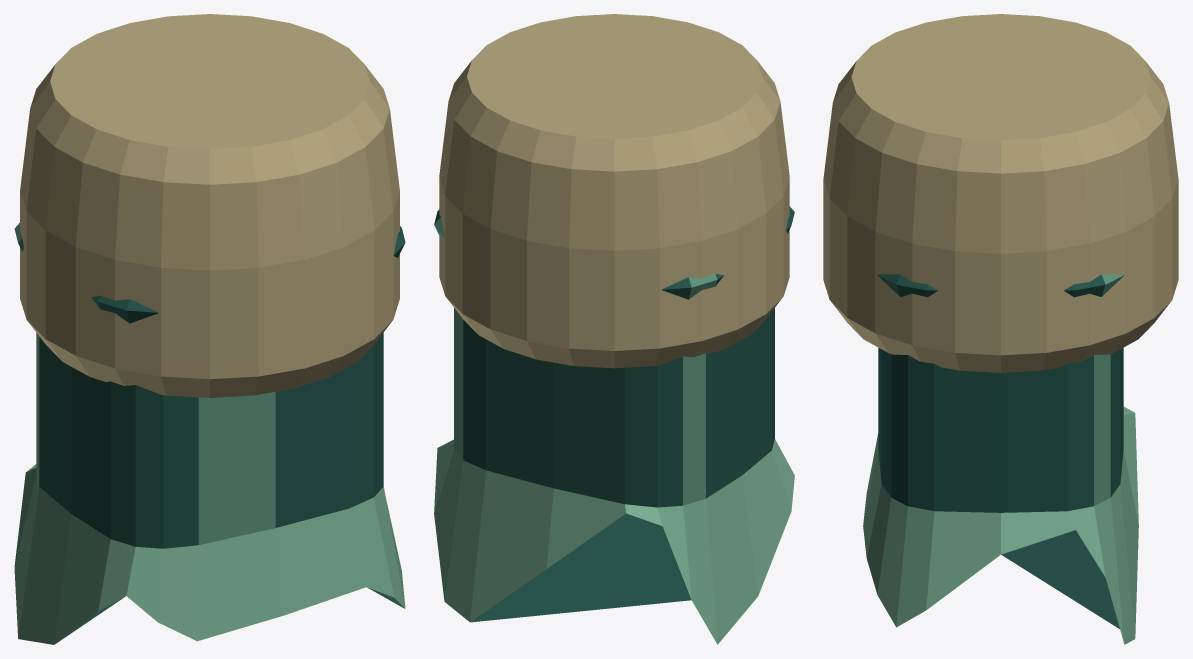
The model's file is gin_bottle_piece_neck.glb.
3 renders of one model, left to right at view 1: azimuth 30°, elevation 25°; view 2: azimuth 150°, elevation 25°; view 3: azimuth 270°, elevation 25°, orthographic. The views are drawn at different scales.
Parts seen in each view (by area): view 1: Retained original bottle closure.003, Jagged shoulder and sealed neck.003; view 2: Retained original bottle closure.003, Jagged shoulder and sealed neck.003; view 3: Retained original bottle closure.003, Jagged shoulder and sealed neck.003.
Part boxes in pixels (bbox=[...]): Retained original bottle closure.003: bbox=[20, 14, 399, 397]; Jagged shoulder and sealed neck.003: bbox=[14, 223, 405, 644]; Retained original bottle closure.003: bbox=[439, 14, 789, 368]; Jagged shoulder and sealed neck.003: bbox=[434, 206, 794, 644]; Retained original bottle closure.003: bbox=[823, 14, 1178, 372]; Jagged shoulder and sealed neck.003: bbox=[863, 274, 1138, 644].
Size of the model in its own units: 0.038 by 0.0618 by 0.038.
